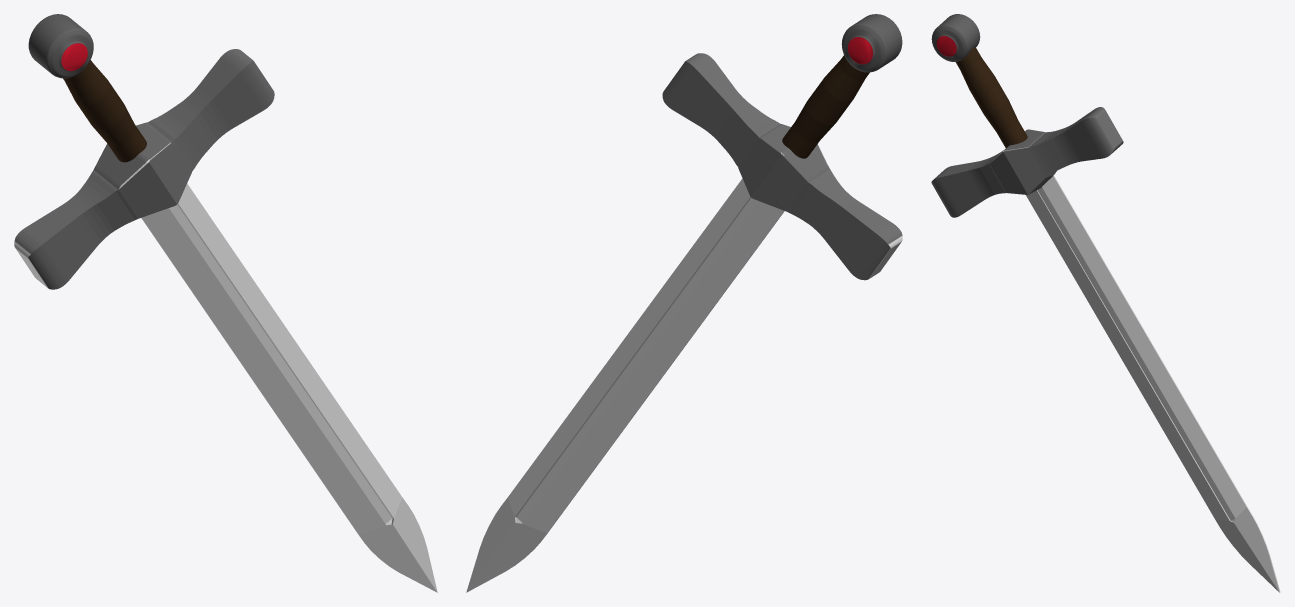
File: Sword.fbx
The picture shows the model from 3 angles, left to right: view 1: azimuth 30°, elevation 25°; view 2: azimuth 150°, elevation 25°; view 3: azimuth 330°, elevation 25°; orthographic projection. The views are drawn at different scales.
Visible parts, largest first — view 1: Cube; view 2: Cube; view 3: Cube.
Boxes of the visible parts, box(x1,y1,x2,y2) form: Cube: box(14, 14, 437, 592); Cube: box(466, 14, 902, 592); Cube: box(931, 14, 1280, 592).
Bounding box in the file's own units: 85.42 × 129 × 14.87.
